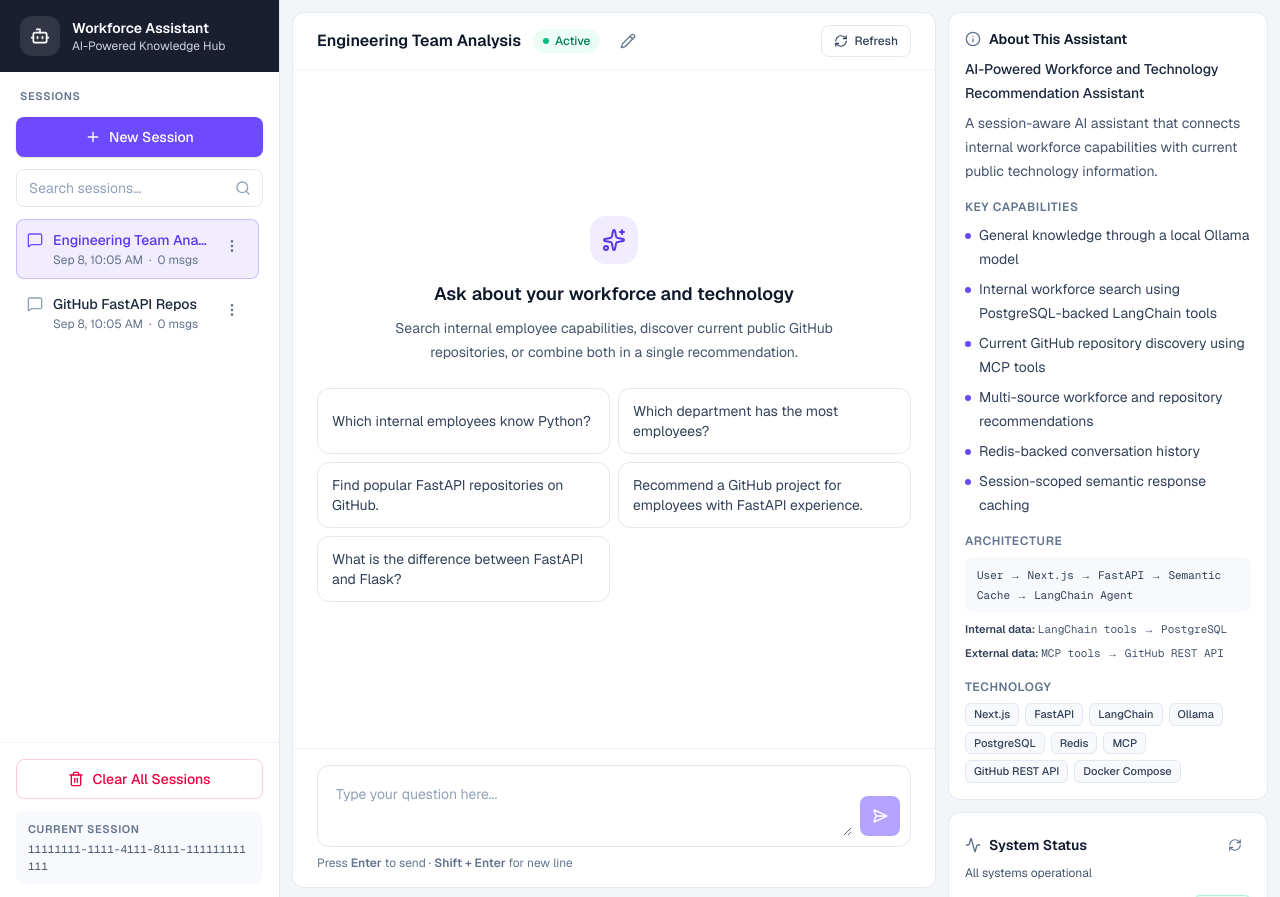
Test case: WorkspaceScreen › deletes a session after confirmation and selects the next one
Expected: the list named "conversation sessions" is shown, [16,218,259,342]
Step 1. Click the button named "Actions for Engineering Team Analysis" → click(232, 246), box [216,230,248,262]
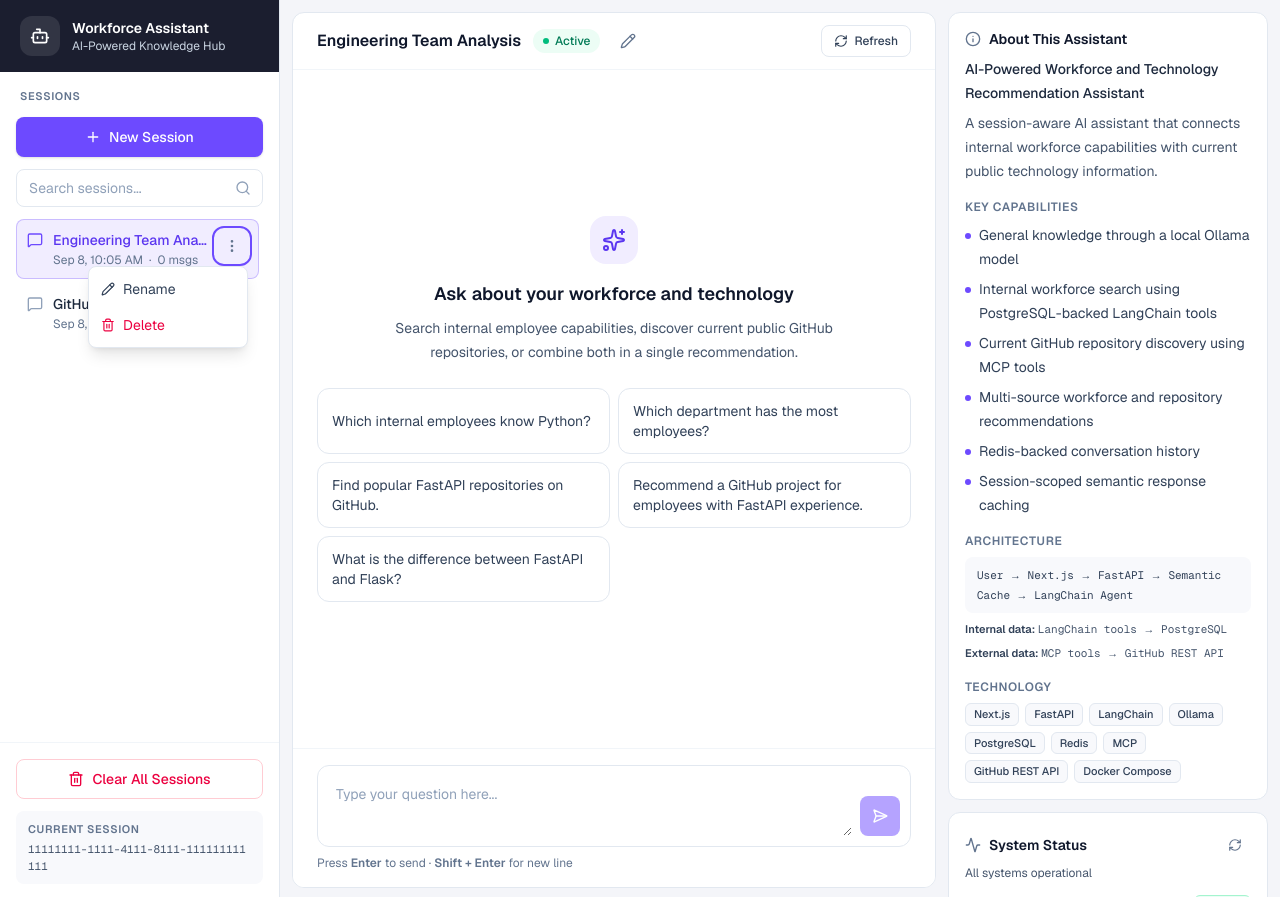
Step 2. Click the menu item "Delete" → click(168, 324), box [89,306,247,342]
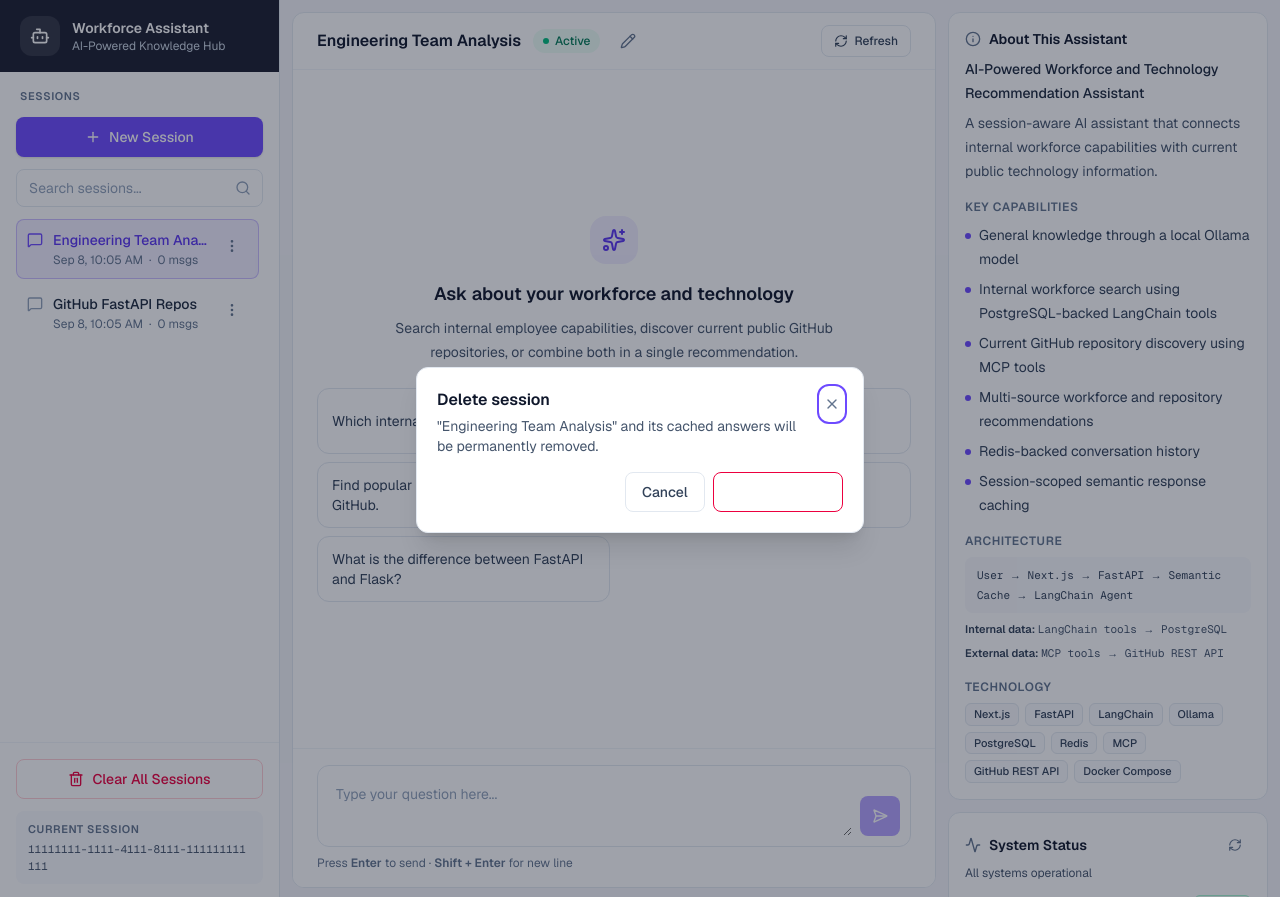
Step 3. Click the button "Delete session" → click(778, 492), box [713,472,843,512]
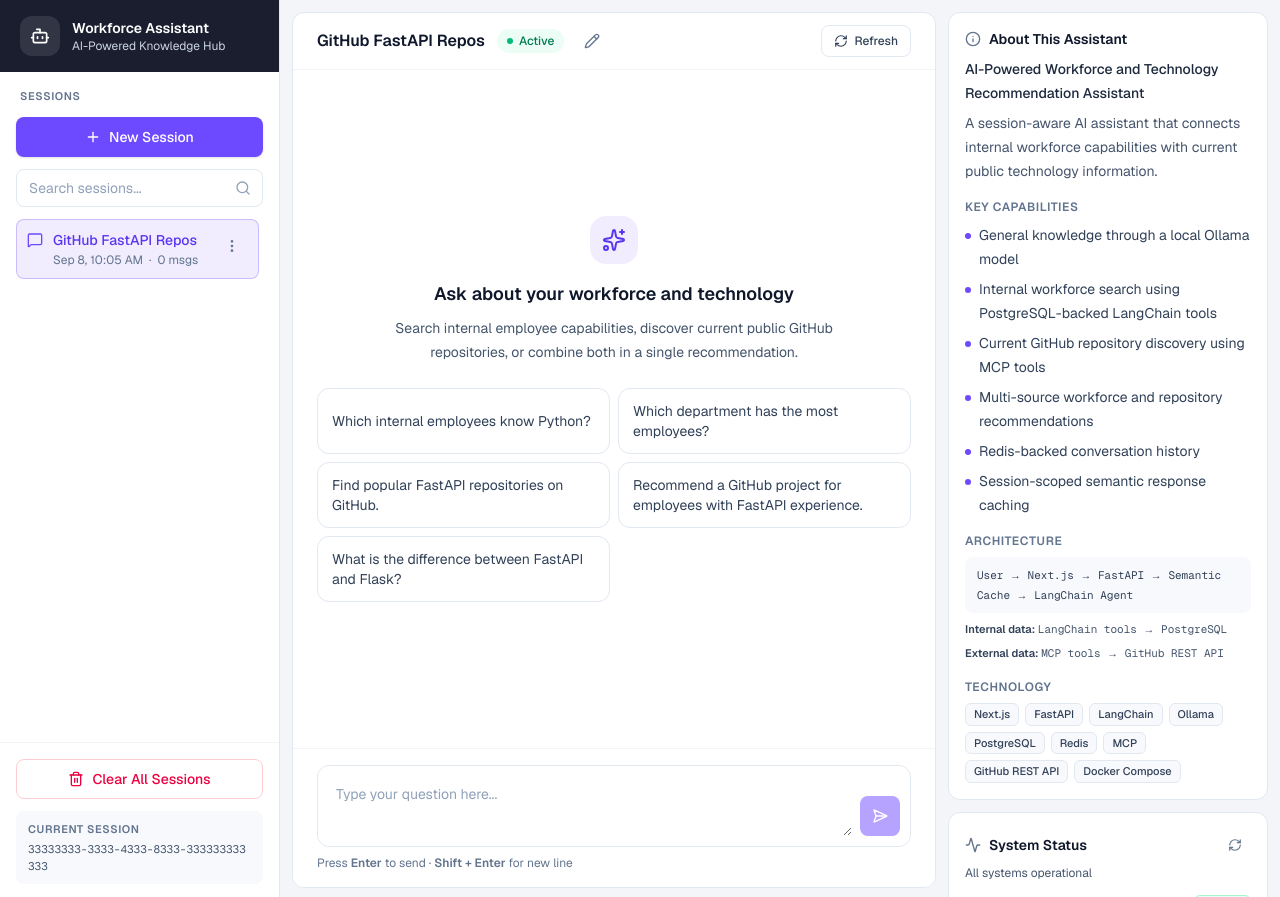
Now the button "Engineering Team Analysis" is gone
